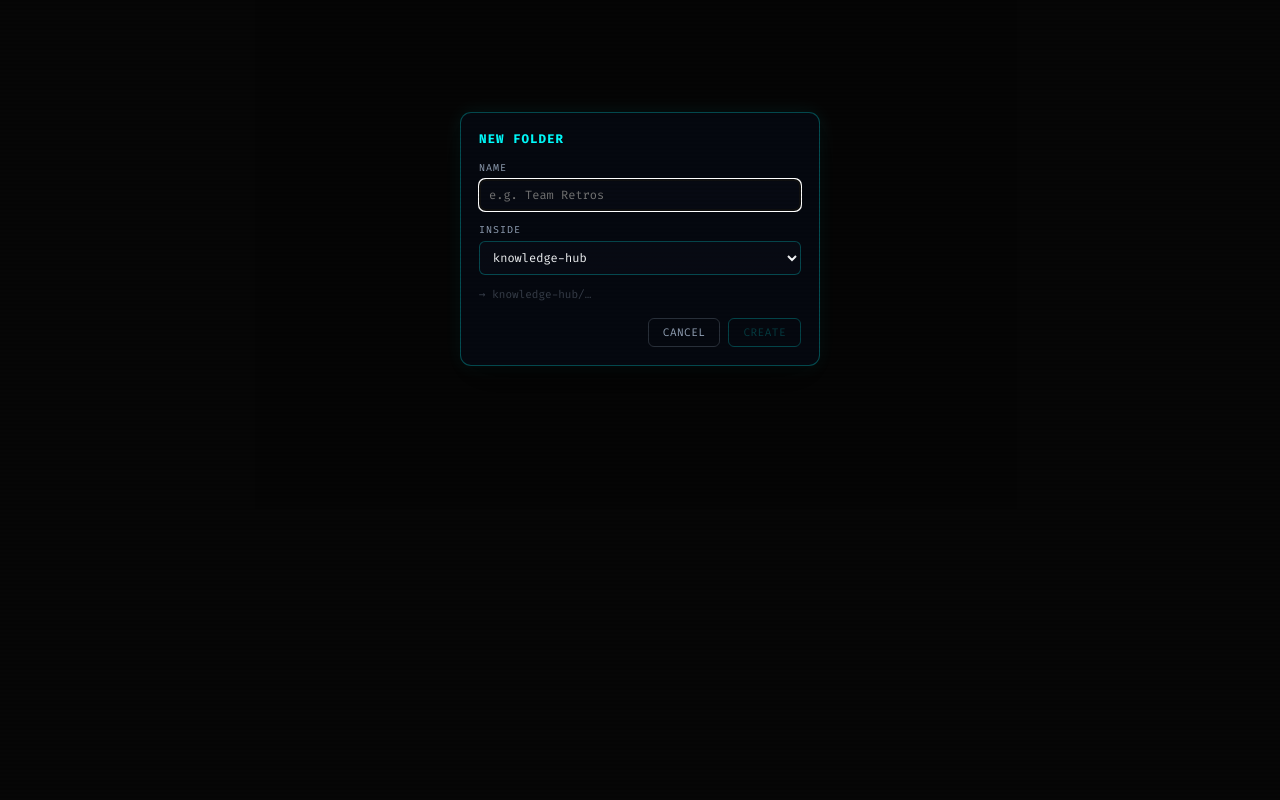
Test: NewFolderDialog › shows the backend error message inline on failure
This screenshot has width=1280, height=800.
In the field labelled "Name": (640,195) left=479, top=179, right=801, bottom=211, type "Existing"
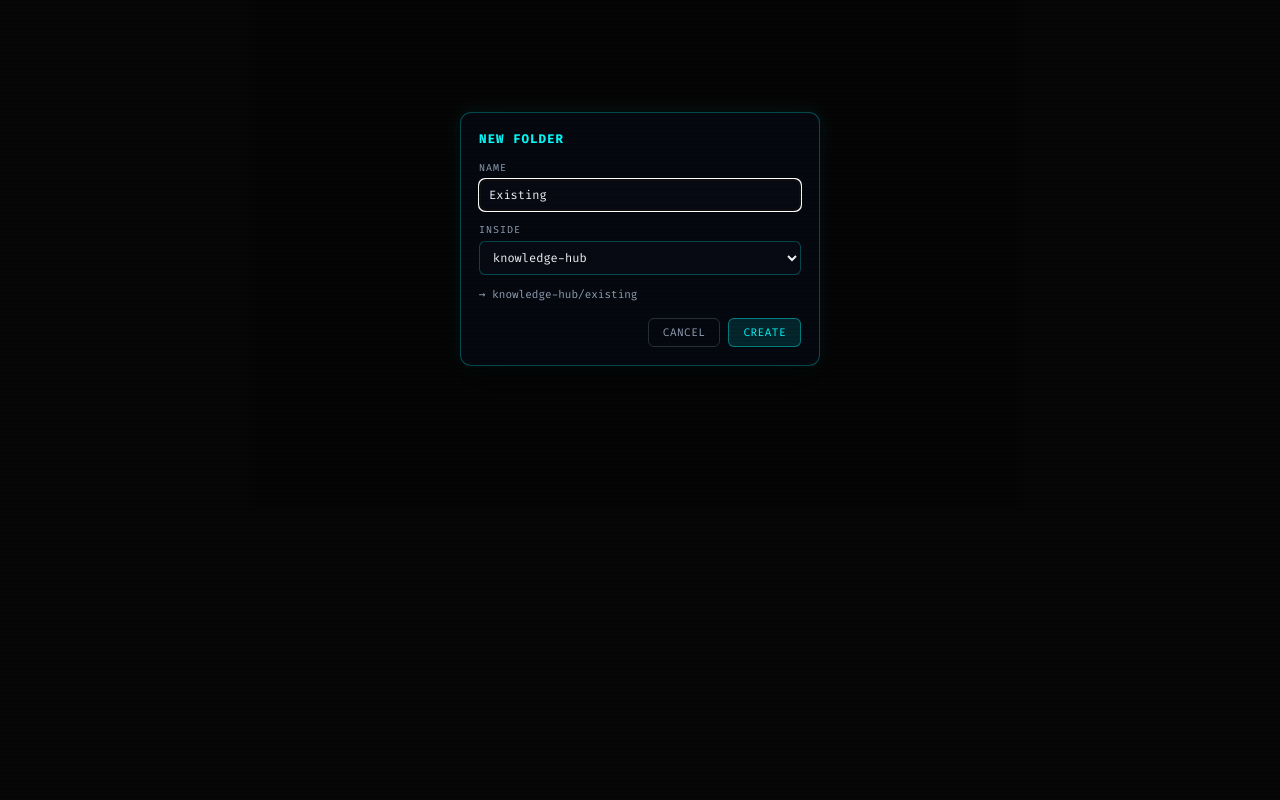
Click the button "Create": (765,332) left=728, top=318, right=801, bottom=347
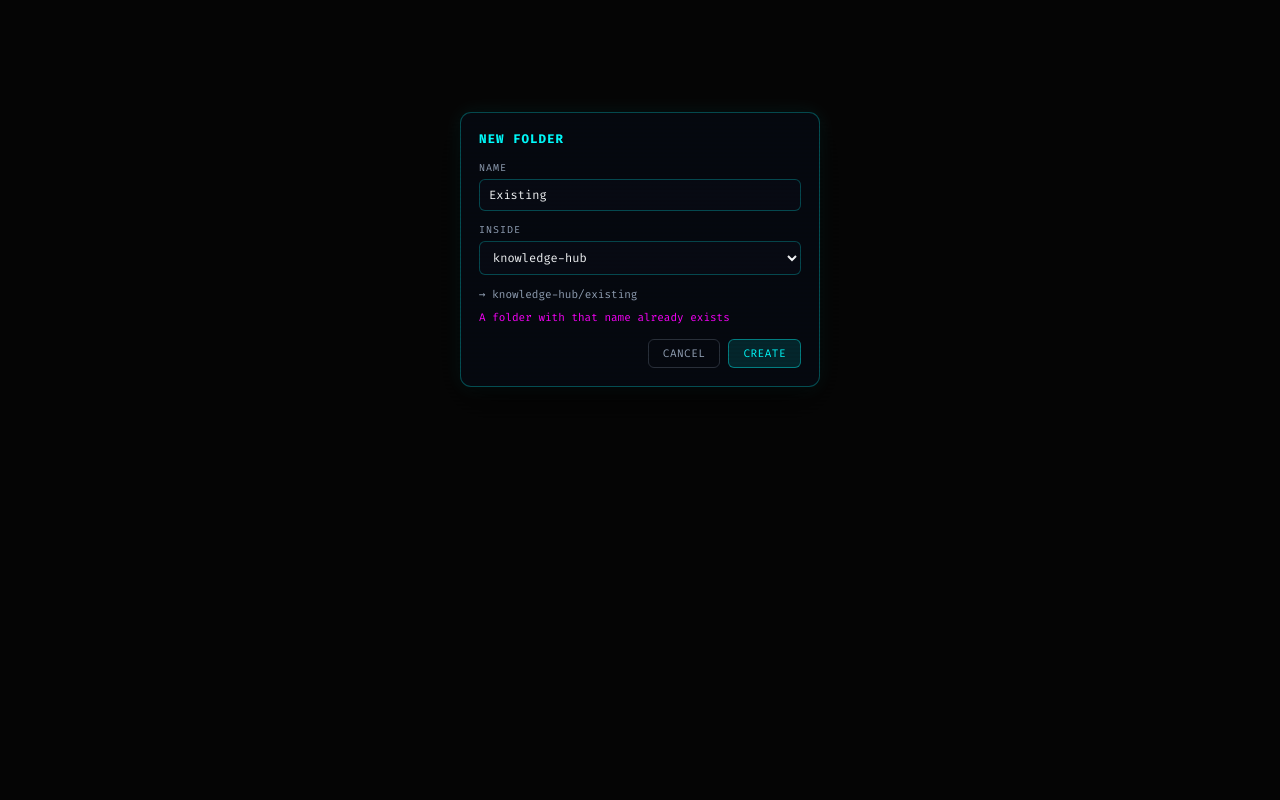
Expected: the text "A folder with that name already exists" is shown, left=479, top=310, right=730, bottom=325
